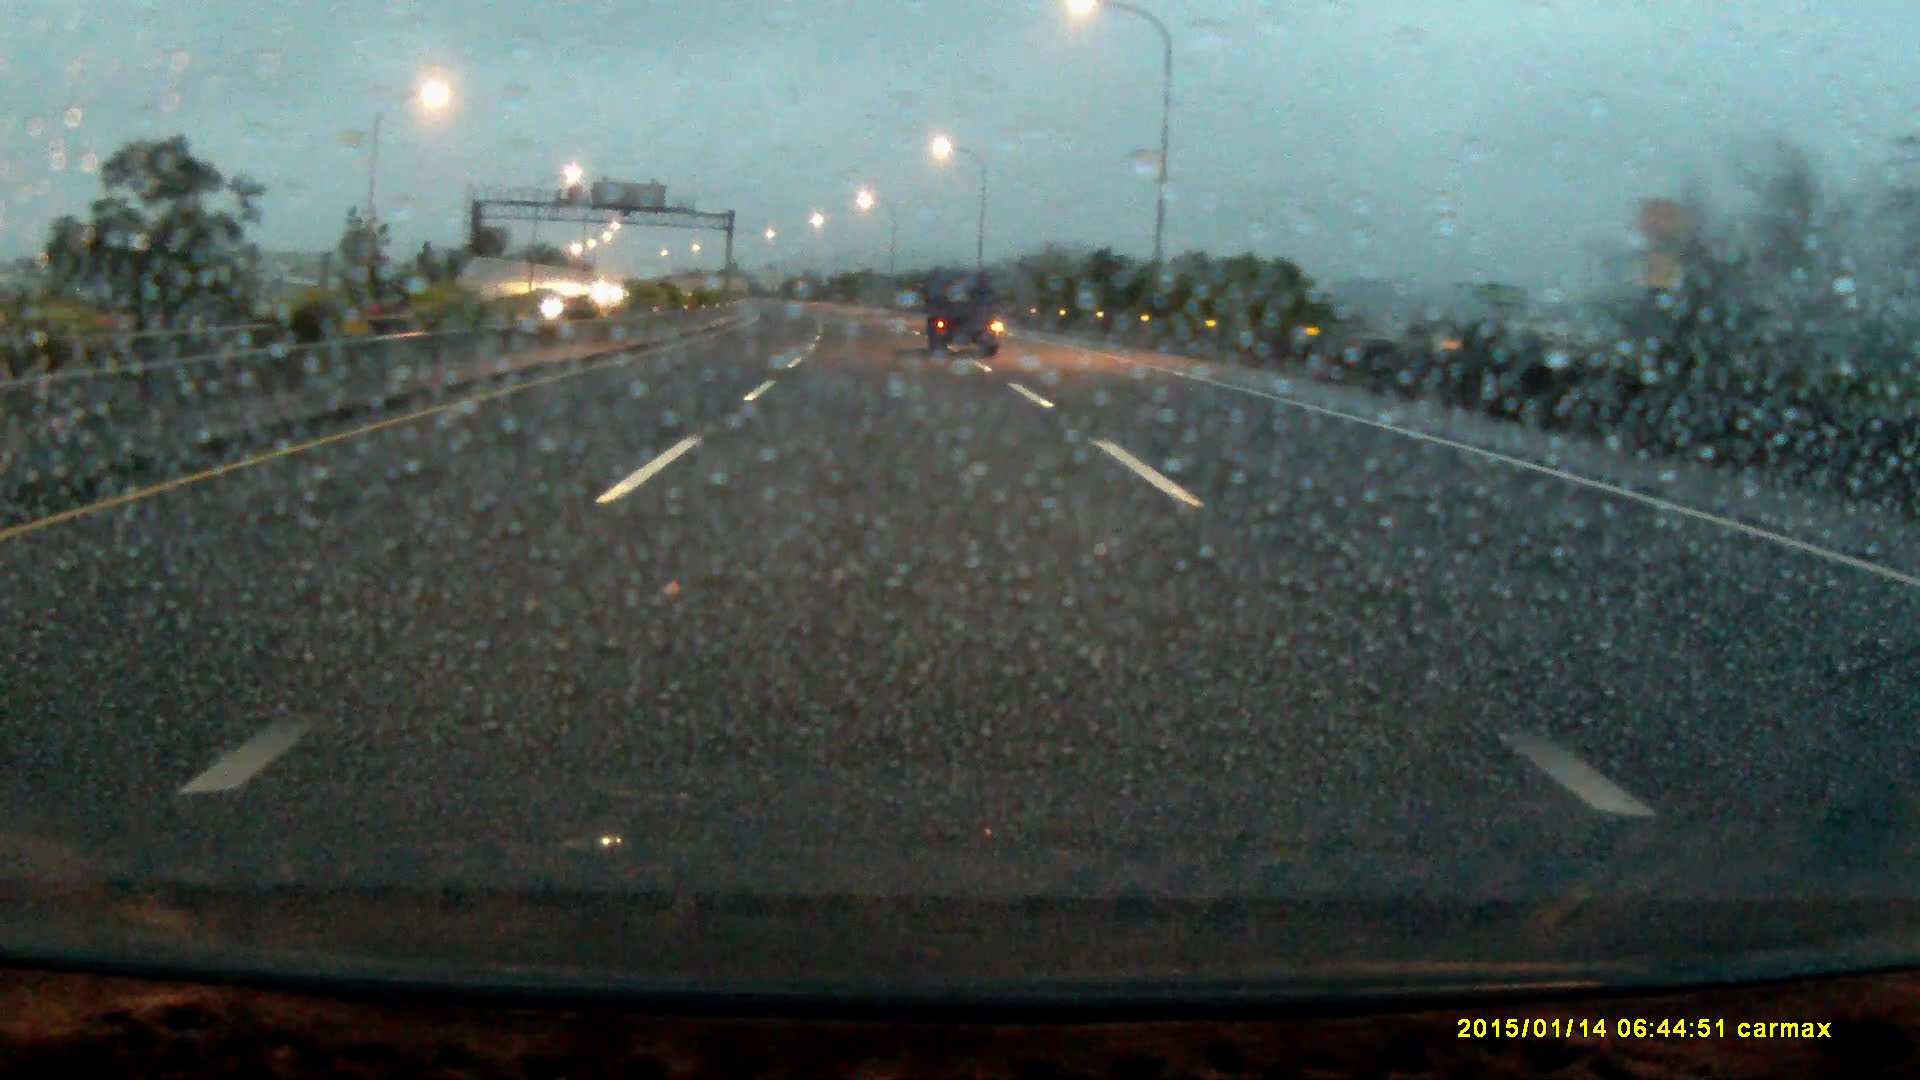vehicle: (924, 272, 1007, 357)
